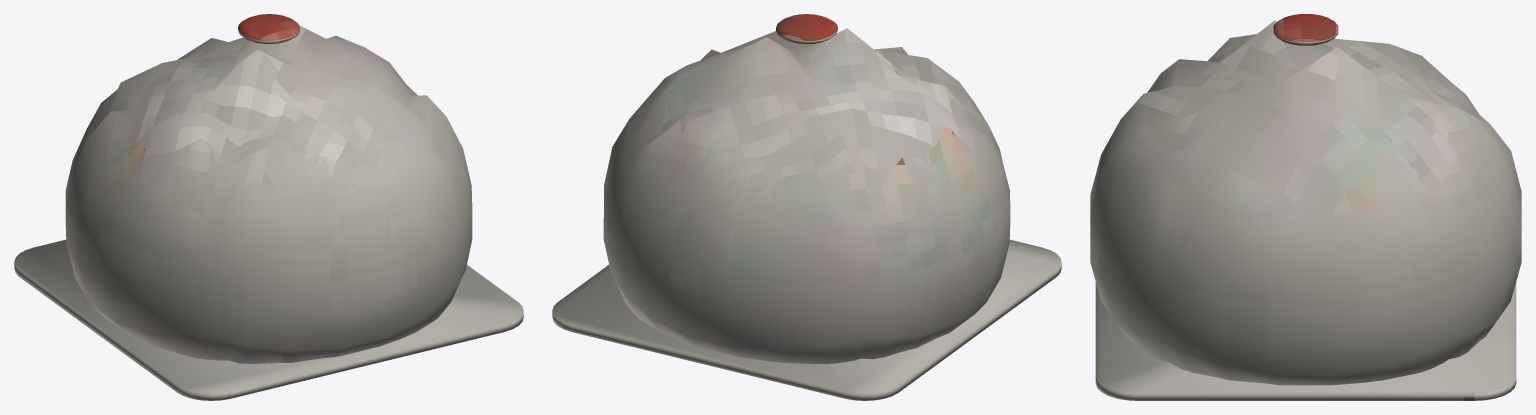
The model's file is anman.glb.
3 renders of one model, left to right at view 1: azimuth 30°, elevation 25°; view 2: azimuth 150°, elevation 25°; view 3: azimuth 270°, elevation 25°, orthographic. The views are drawn at different scales.
Parts seen in each view (by area): view 1: prop_anman_felt; view 2: prop_anman_felt; view 3: prop_anman_felt.
Part boxes in pixels (bbox=[...]): prop_anman_felt: bbox=[14, 14, 523, 400]; prop_anman_felt: bbox=[552, 14, 1061, 400]; prop_anman_felt: bbox=[1090, 14, 1521, 400].
Size of the model in its own units: 0.1537 by 0.1139 by 0.1539.
1 material, 1 textured.
